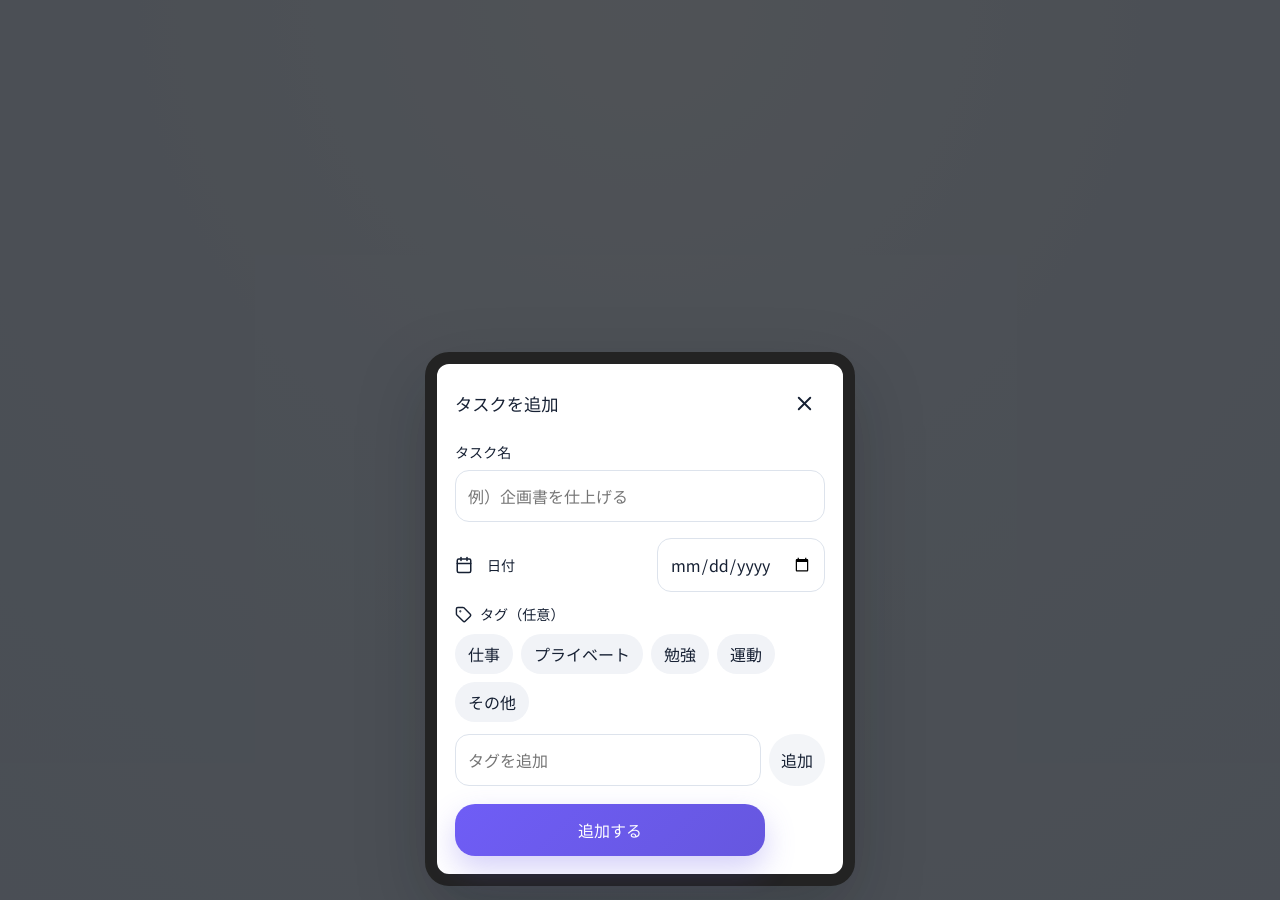
Test: ManualTaskModal › 新しいタグ候補を追加できる
This screenshot has width=1280, height=900.
In the field with placeholder "タグを追加": [608, 760] box [455, 734, 761, 786], type "読書"
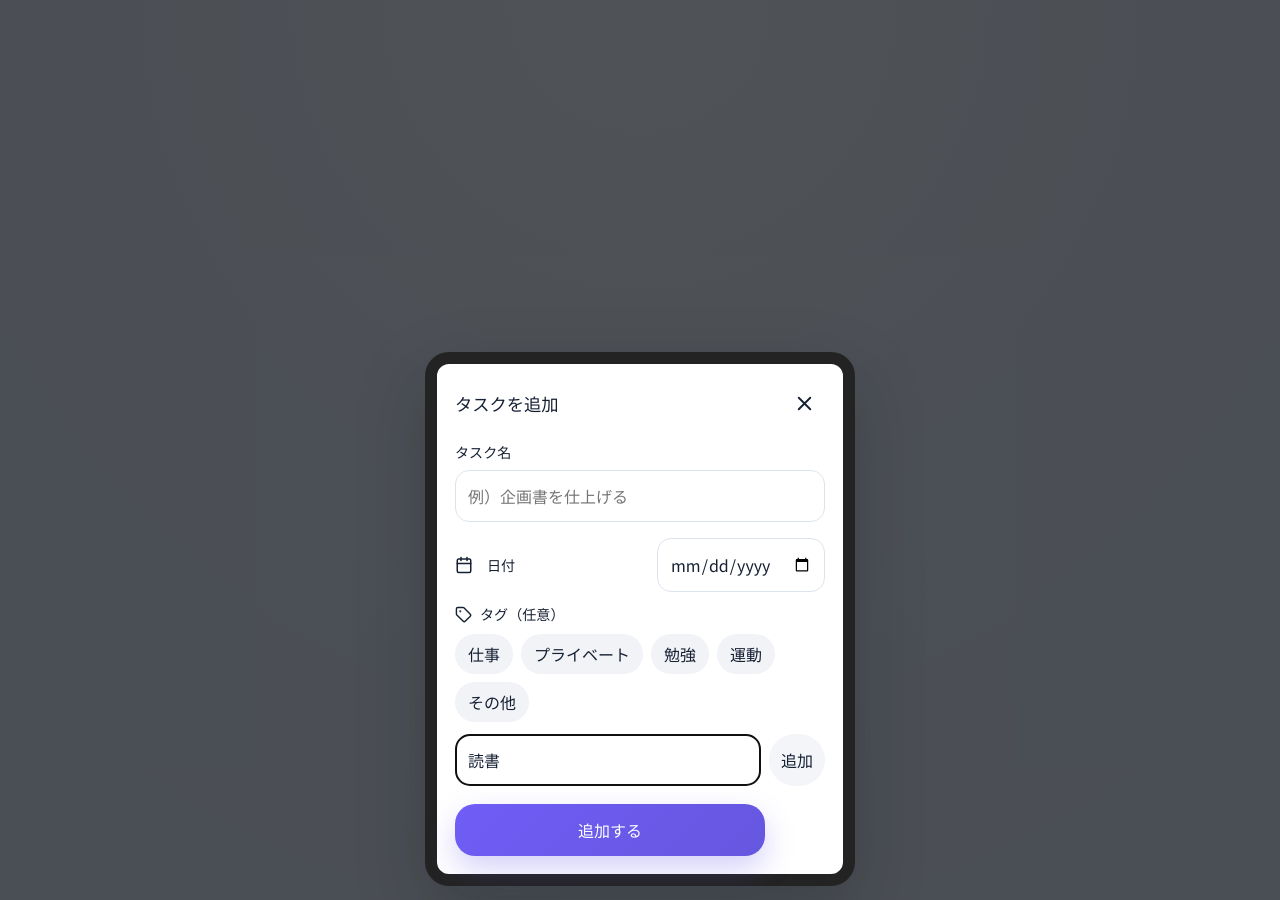
Click the button "追加": [797, 760] box [769, 734, 825, 786]
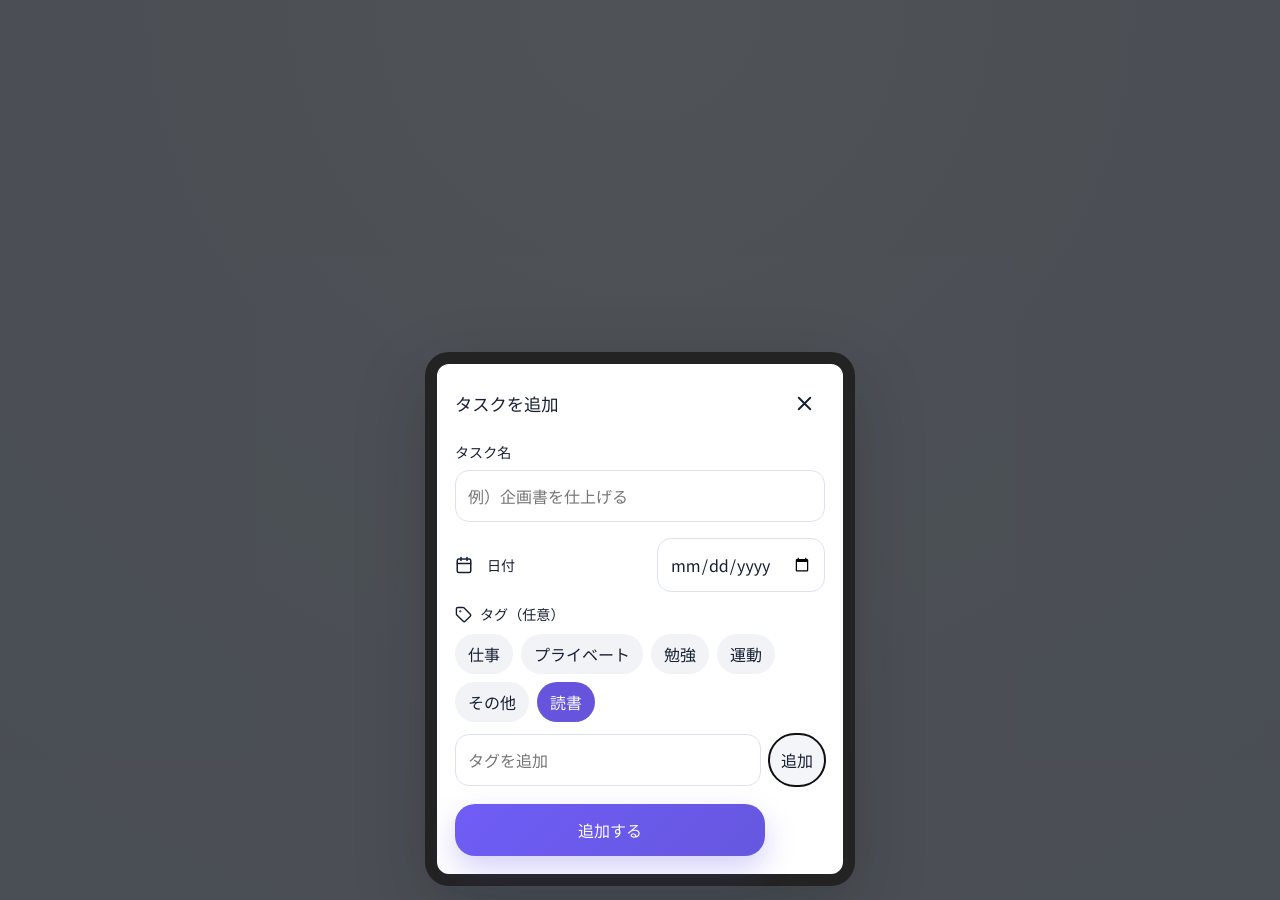
Result: the button "読書" is shown at [537, 682, 595, 722]
